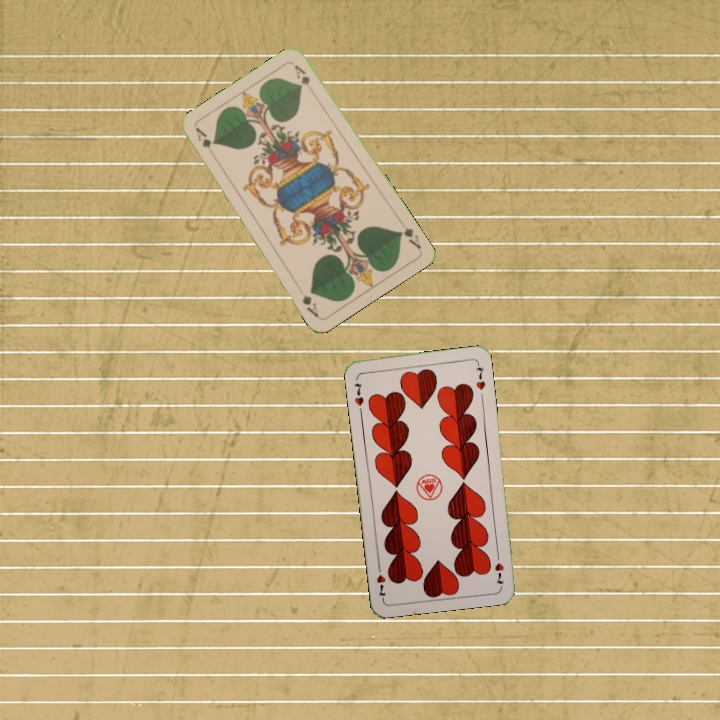GA: (192, 124, 219, 161), (395, 223, 424, 252)
H7: (491, 548, 507, 588), (350, 379, 366, 408)
